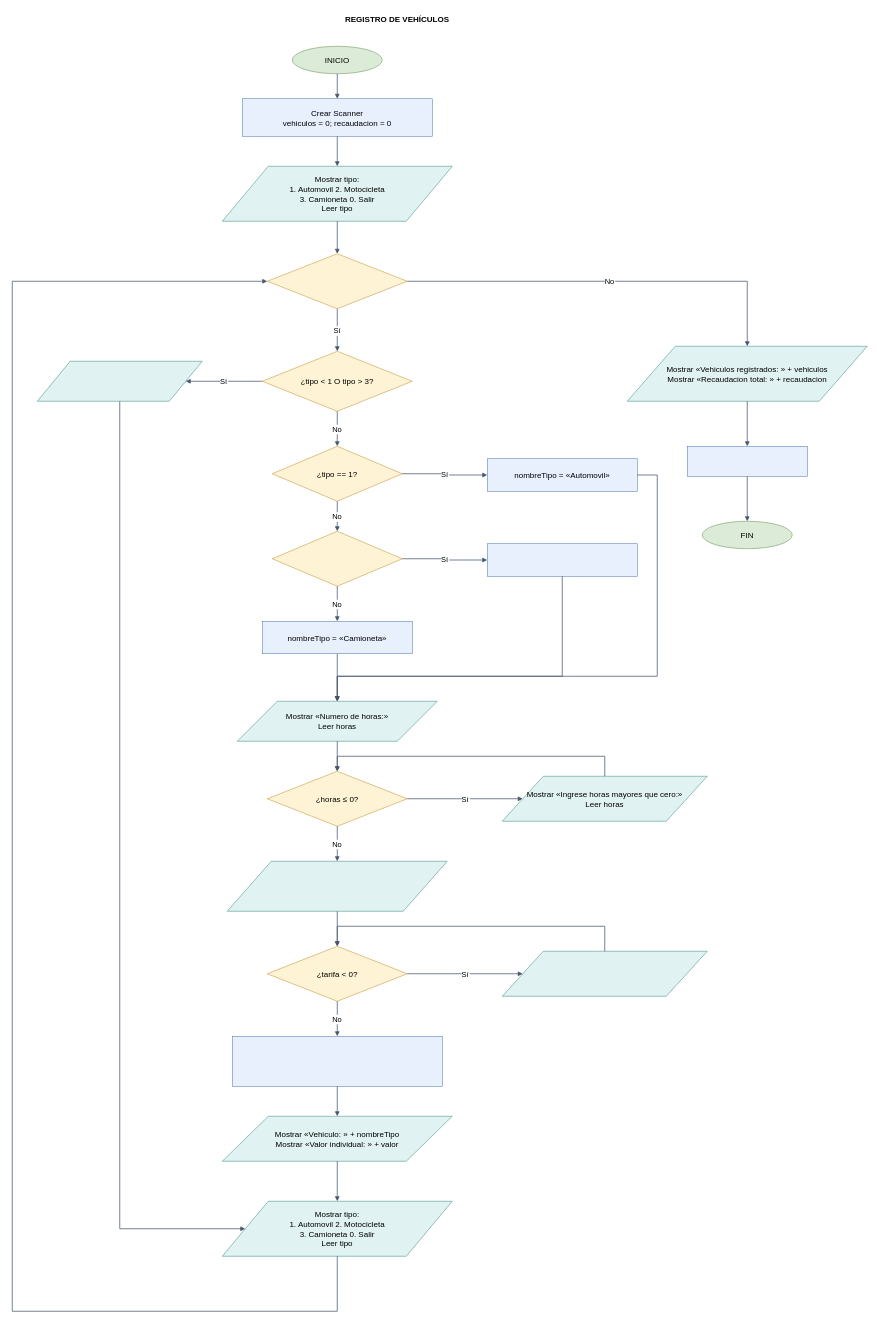
This 877x1324 diagram has some shape labels left out. Each missing label, with the box of its shape:
Mostrar «Ingrese una tarifa no negativa:» Leer tarifa: (502, 951, 707, 996)
Mostrar «Tarifa por hora para » + nombreTipo + «:» Leer tarifa: (227, 861, 447, 911)
Mostrar «Tipo invalido. Elija una opcion entre 0 y 3.»: (37, 361, 202, 401)
nombreTipo = «Motocicleta»: (487, 543, 637, 576)
scanner.close(): (687, 446, 807, 476)
valor = horas * tarifa recaudacion = recaudacion + valor vehiculos++: (232, 1036, 442, 1086)
¿tipo == 2?: (272, 531, 402, 586)
¿tipo ≠ 0?: (267, 253, 407, 309)
